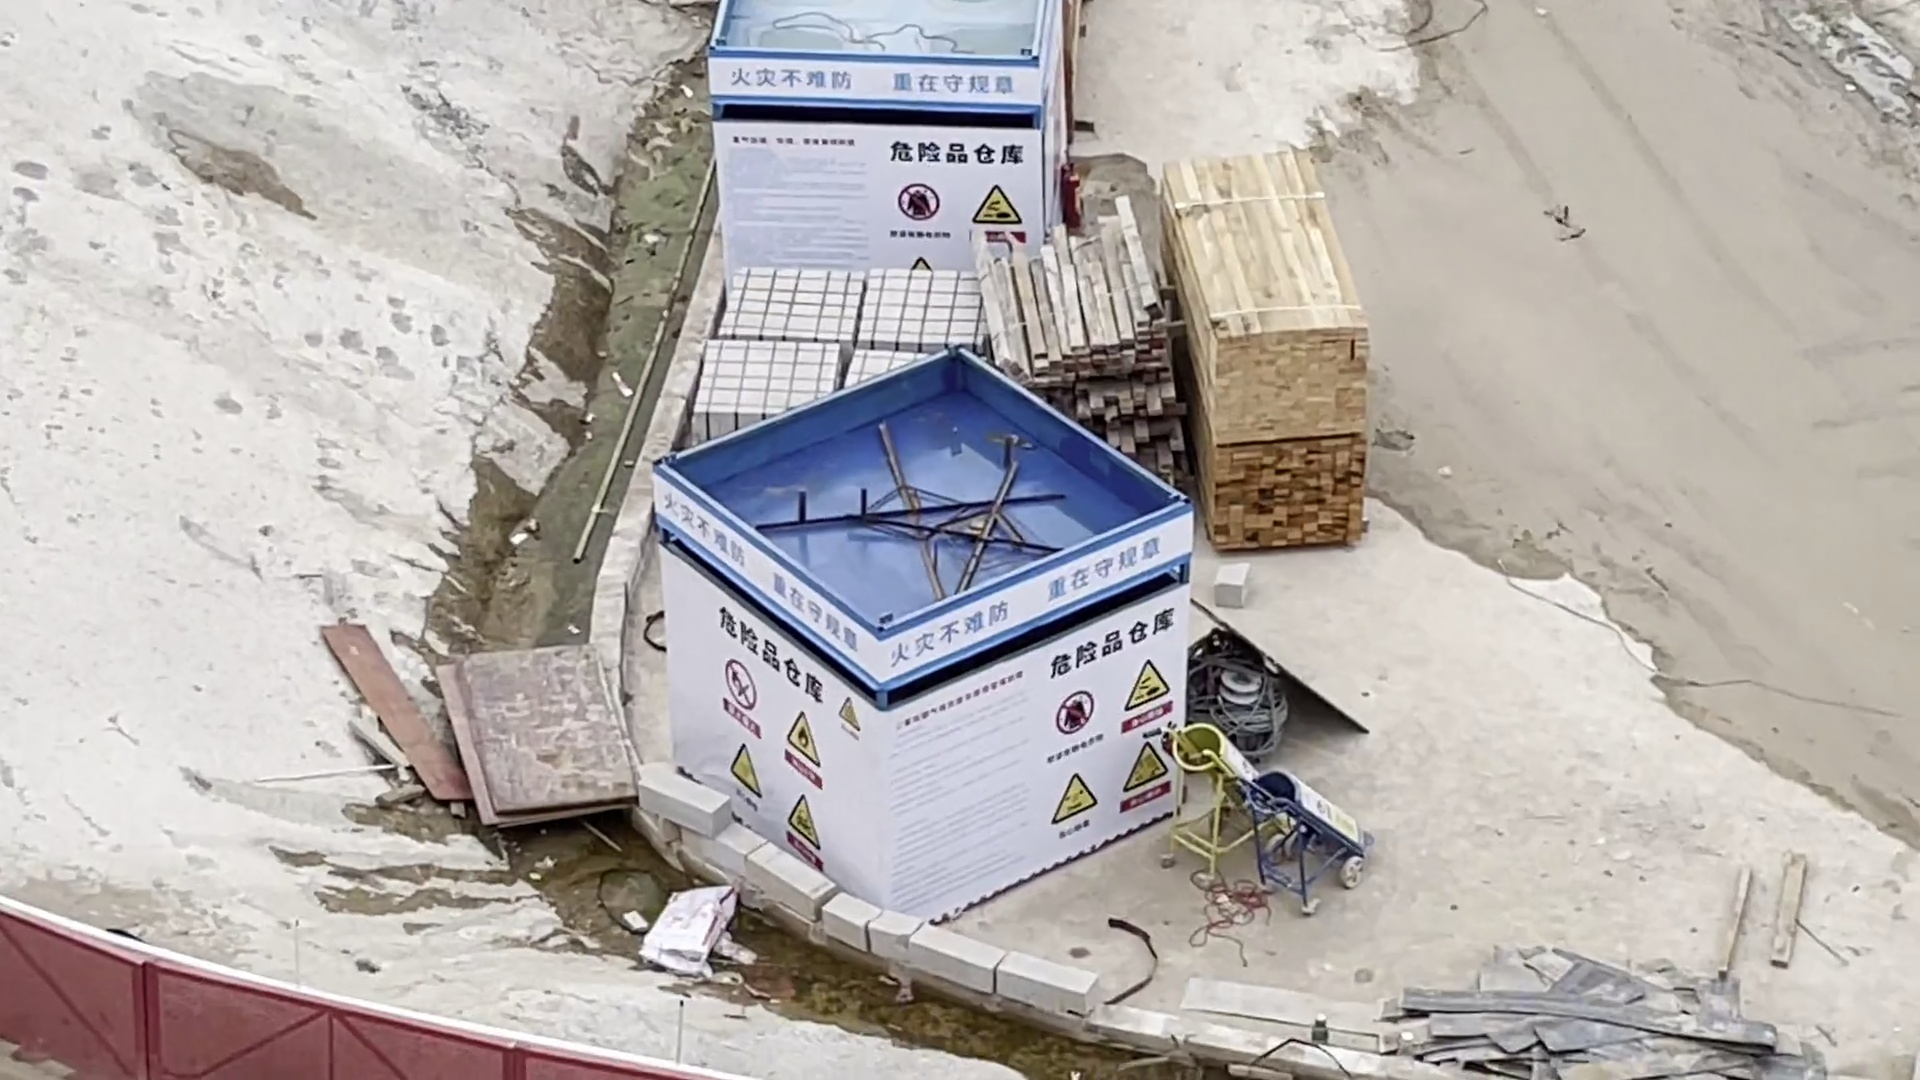slogan: (654, 363, 1222, 939), (688, 1, 1042, 256)
wood: (1174, 152, 1400, 443), (973, 224, 1170, 436), (1185, 429, 1387, 553)
